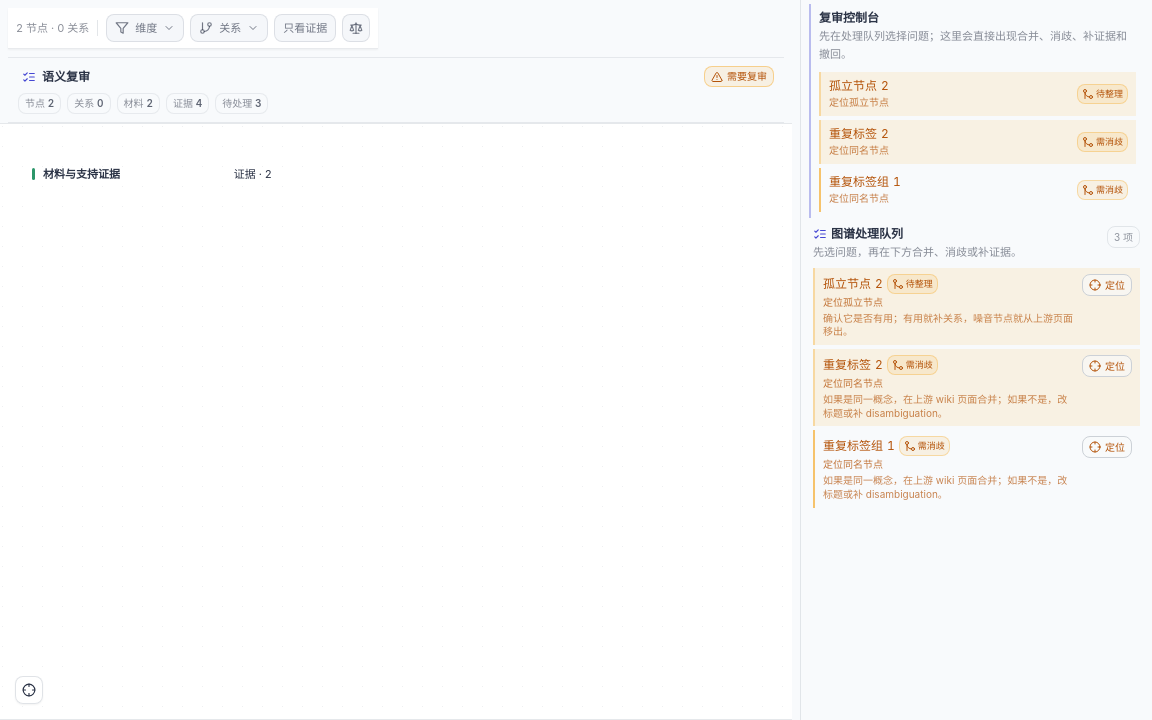
Scenario: DimensionGraphViewer › explains read-only current context graph review when duplicate nodes have no wiki page paths
Click the button with aria-label "定位重复标签".
click(847, 364)  # box [813, 349, 1140, 426]
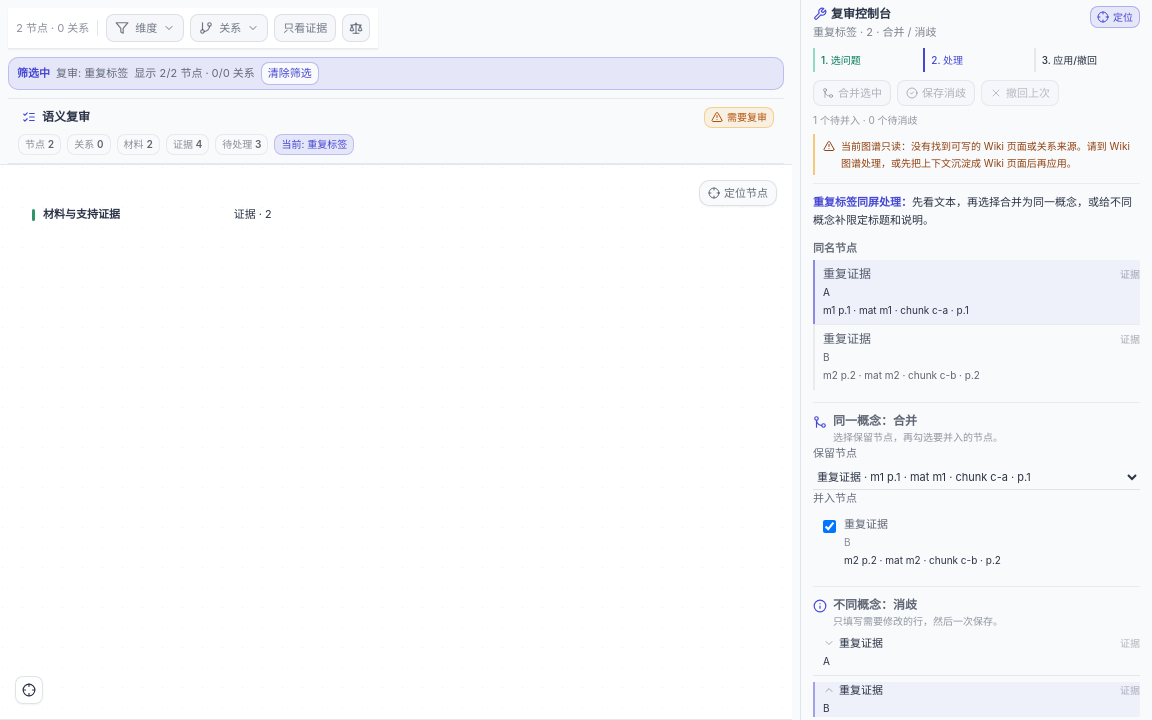
Now the text "先把上下文沉淀成 Wiki 页面" is shown, box [841, 140, 1130, 169]
Now the button "合并选中" is disabled, box [813, 80, 891, 106]
Now the button "保存消歧" is disabled, box [897, 80, 975, 106]
